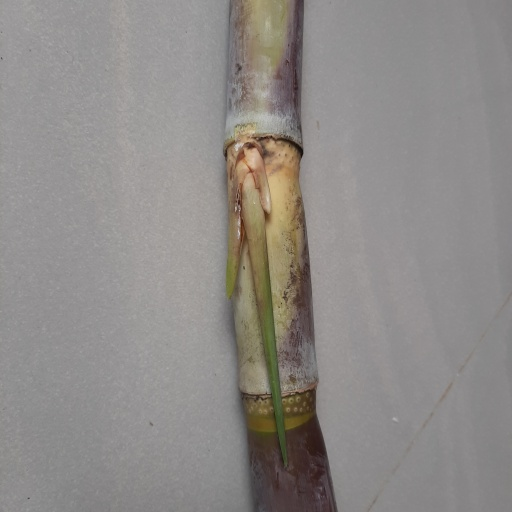Sprouted_Bud: (228, 137, 271, 221)
